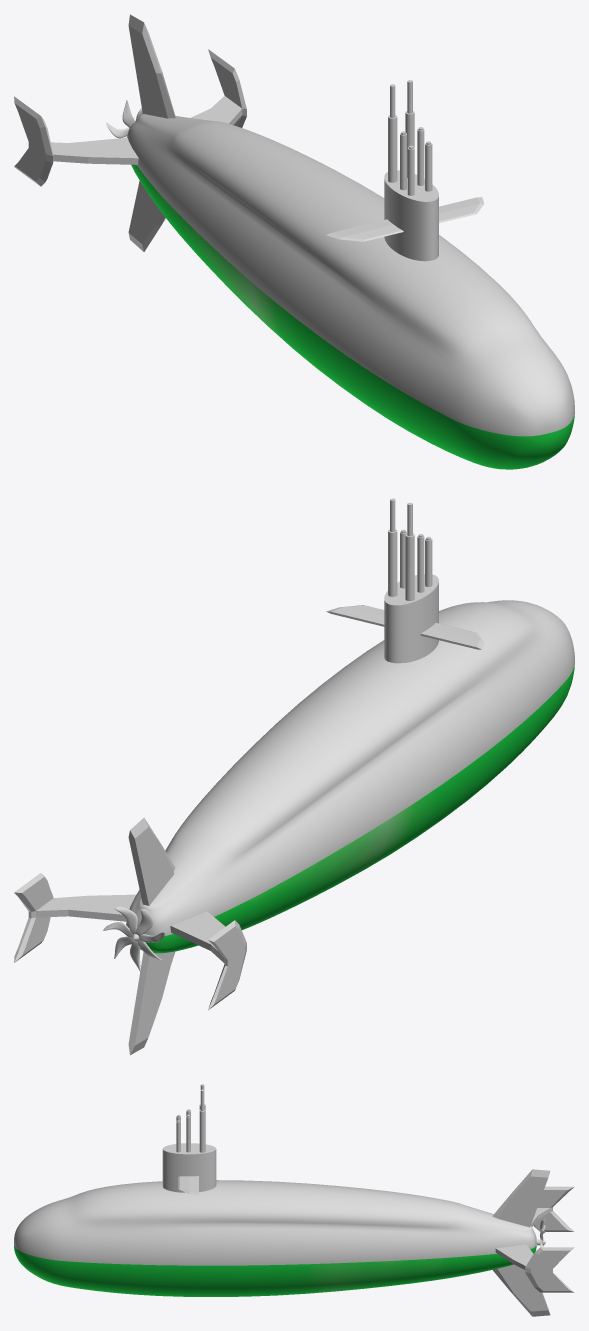
Rendered from podvodnaya_lodka.fbx.
The picture shows the model from 3 angles, top to bottom: view 1: azimuth 30°, elevation 25°; view 2: azimuth 150°, elevation 25°; view 3: azimuth 270°, elevation 25°; orthographic projection. The views are drawn at different scales.
Parts seen in each view (by area): view 1: Cube; view 2: Cube, Cylinder.001; view 3: Cube.
Part boxes in pixels (x1=…): Cube: x1=14, y1=14, x2=574, y2=469; Cube: x1=14, y1=498, x2=574, y2=1055; Cylinder.001: x1=103, y1=906, x2=164, y2=971; Cube: x1=14, y1=1084, x2=574, y2=1316.
Size of the model in its own units: 552 by 945 by 2098.
